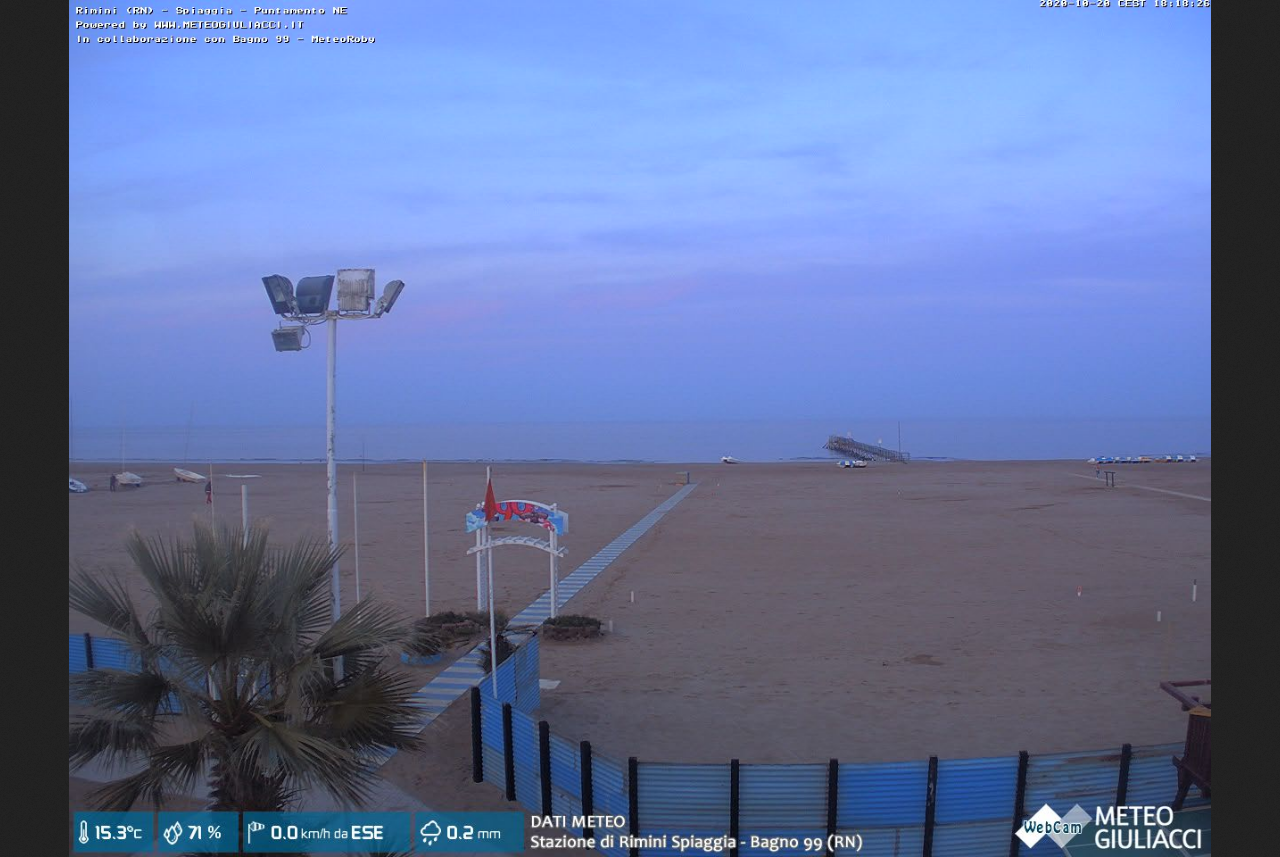no: (482, 466, 498, 522)
